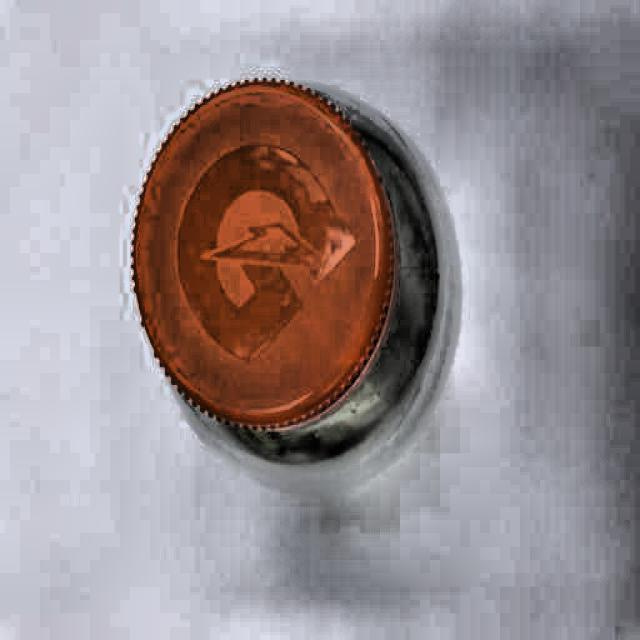plastic: (131, 72, 459, 463)
